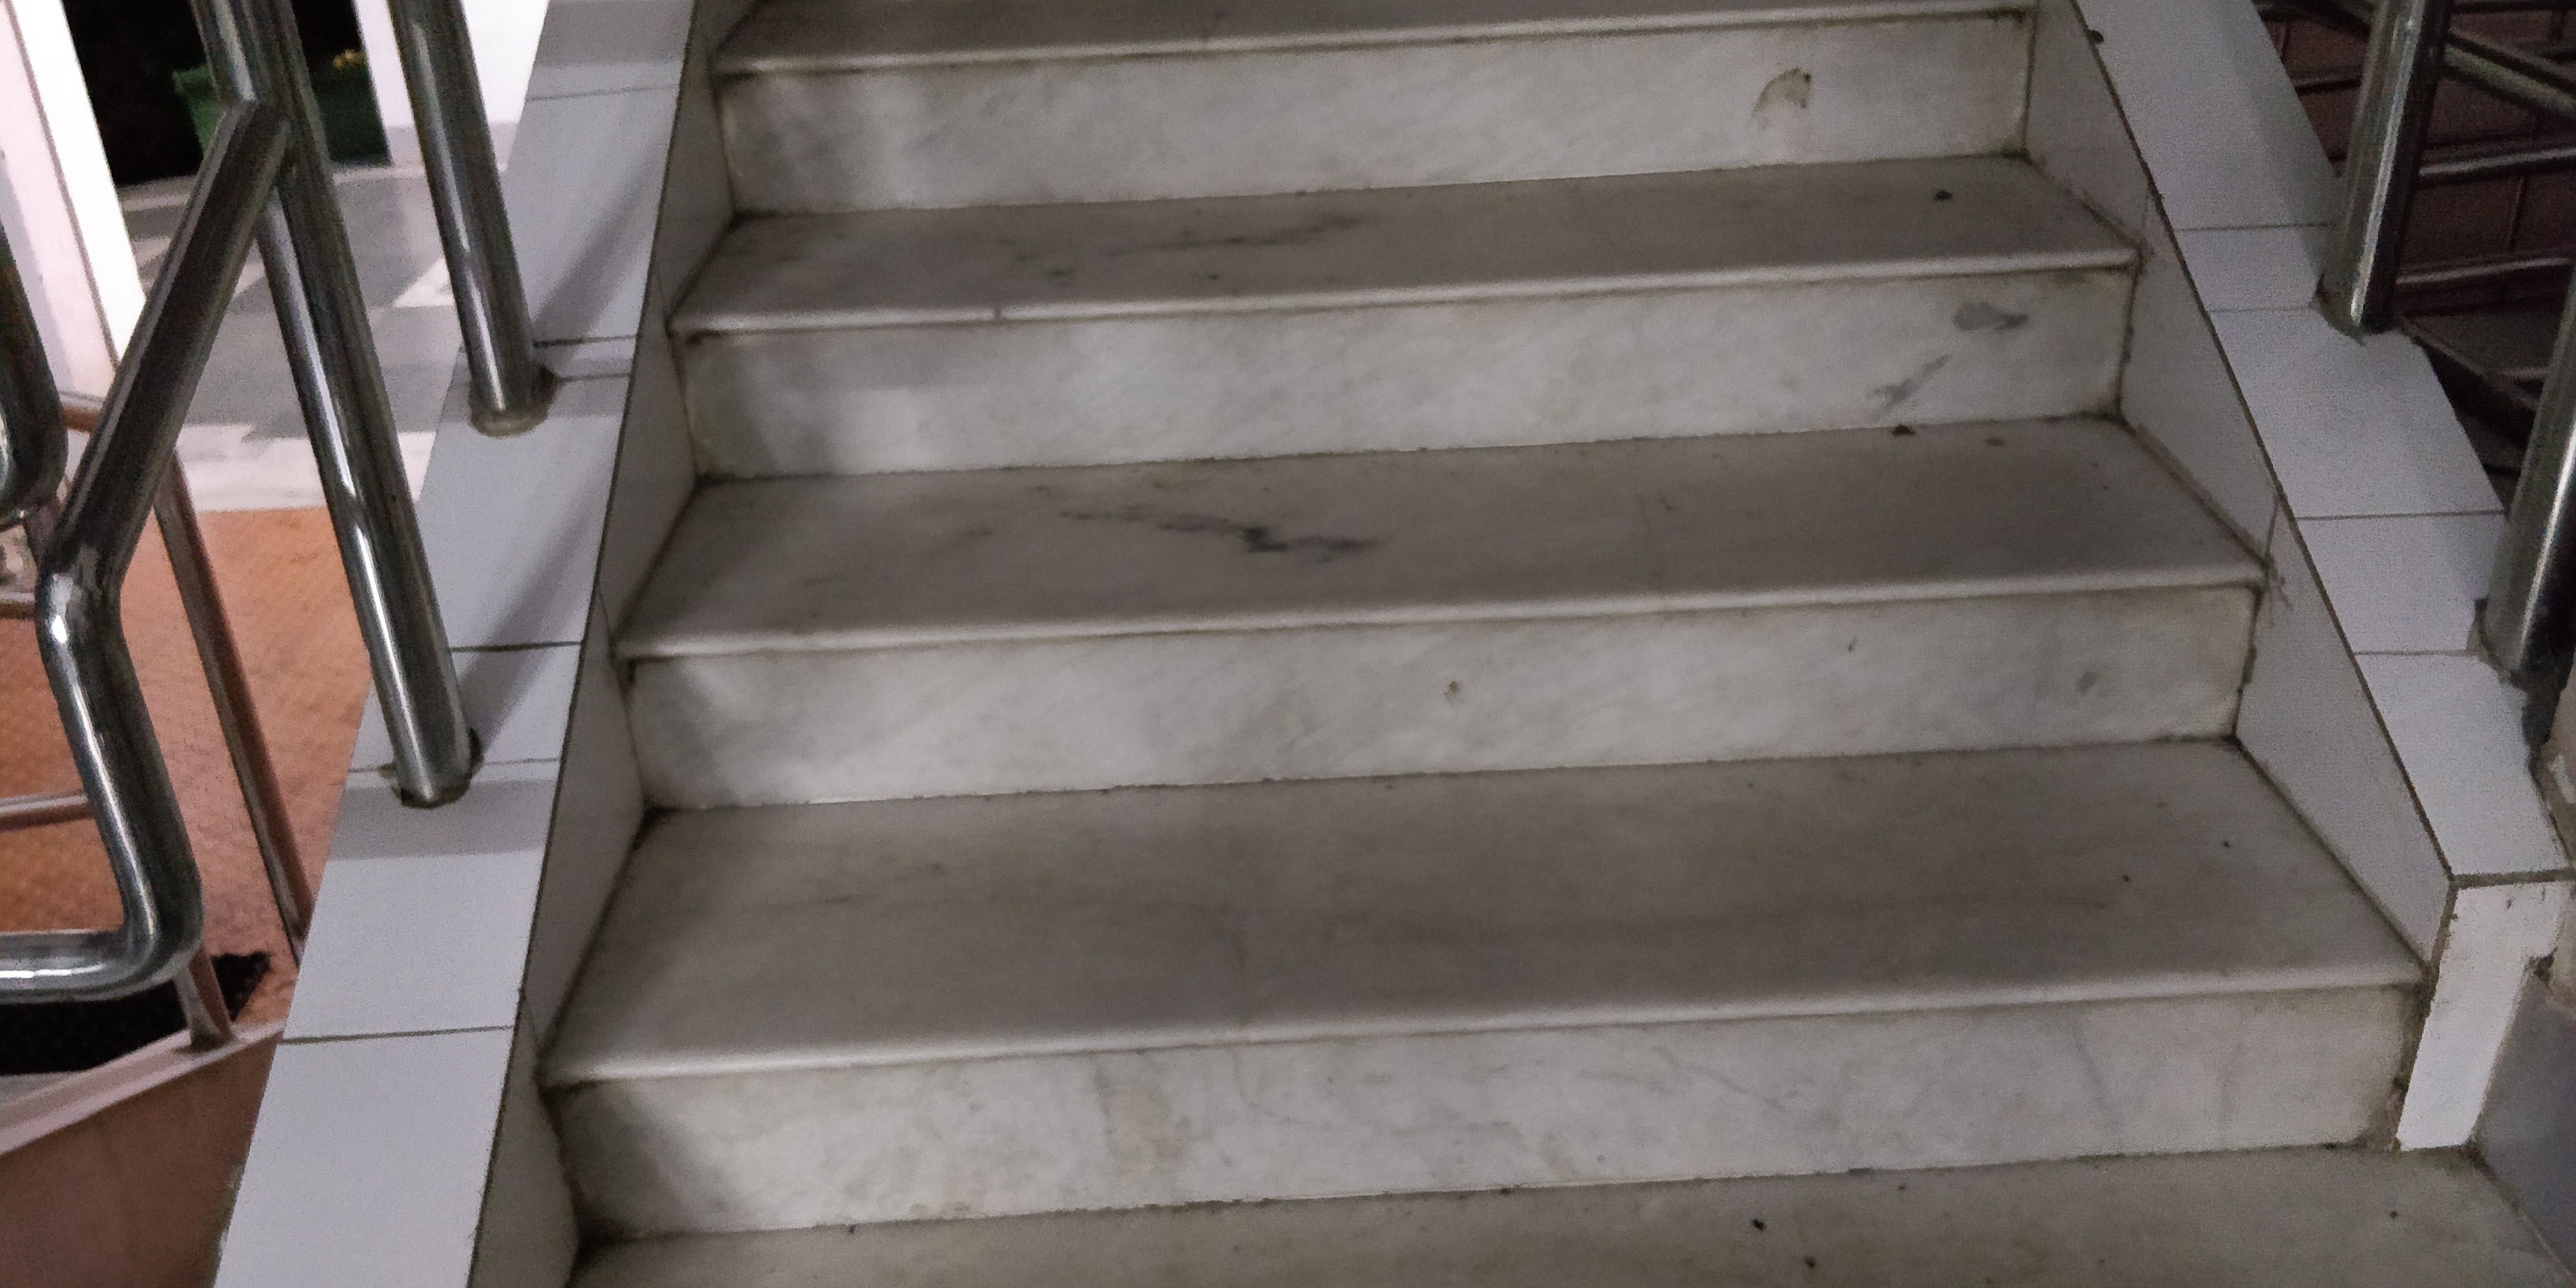stairs_up: (585, 44, 2472, 1198)
